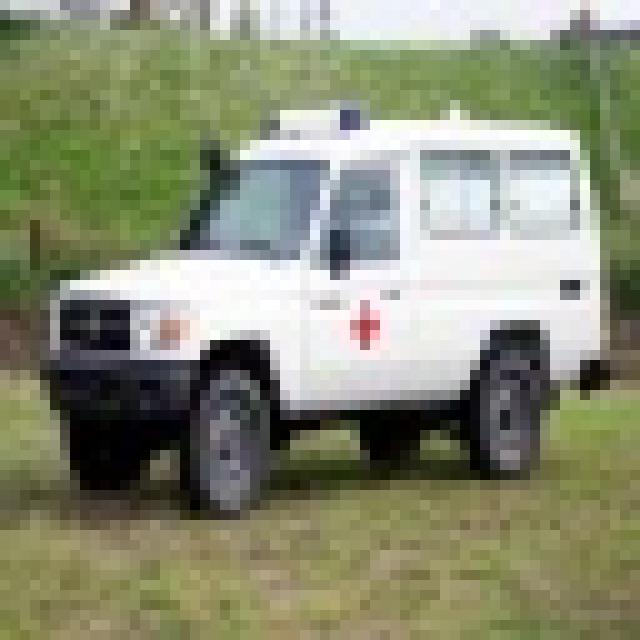Ambulance: (30, 100, 610, 510)
